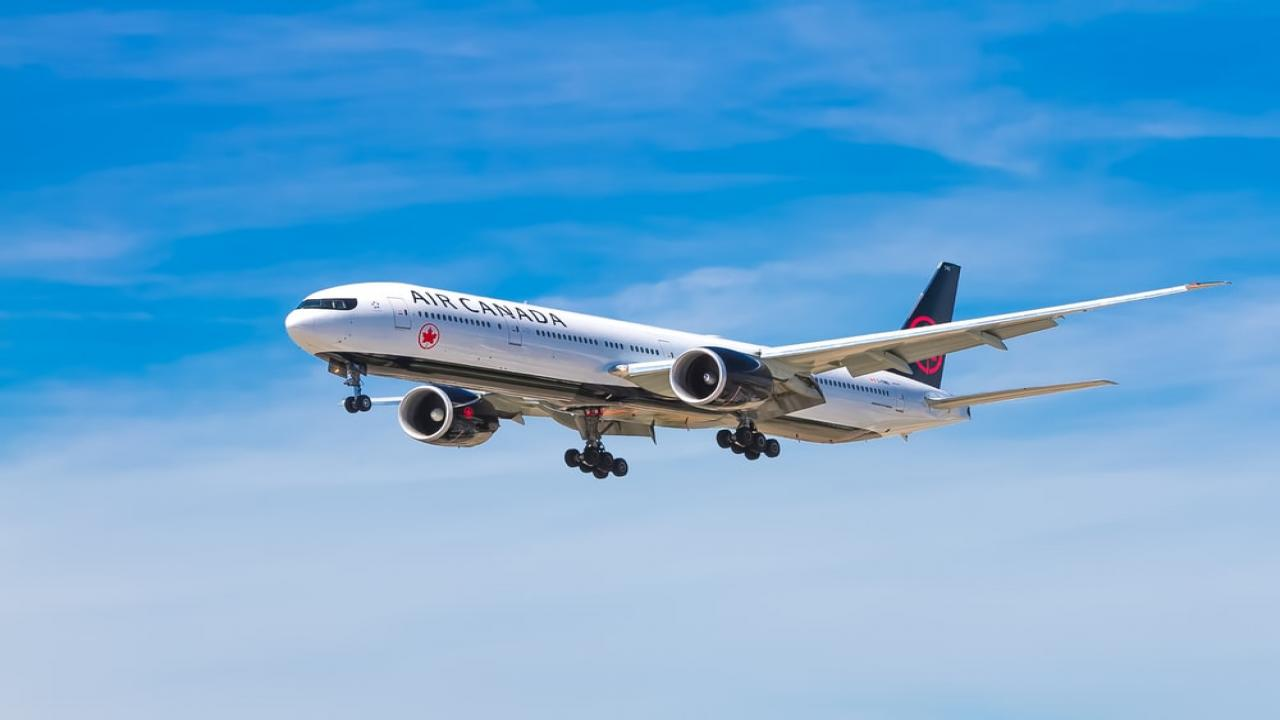Airplane: (270, 242, 1244, 488)
